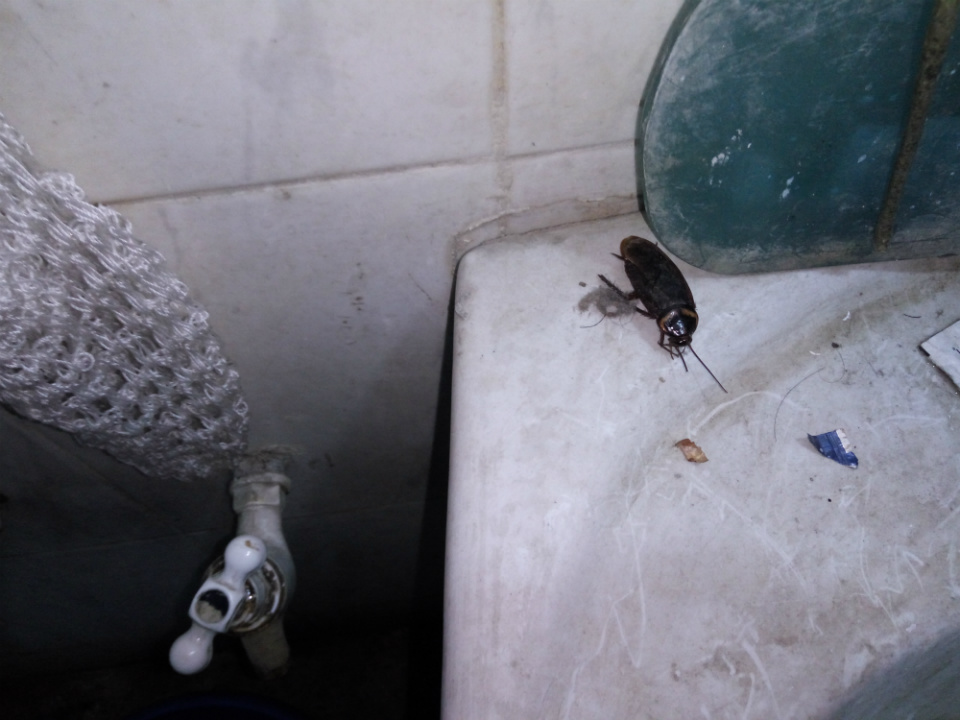cockroach: (487, 203, 775, 400)
